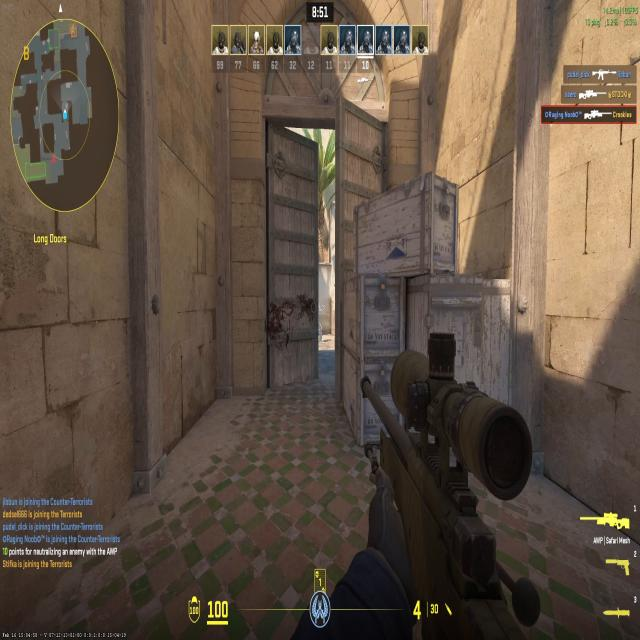player: (315, 295, 326, 349)
